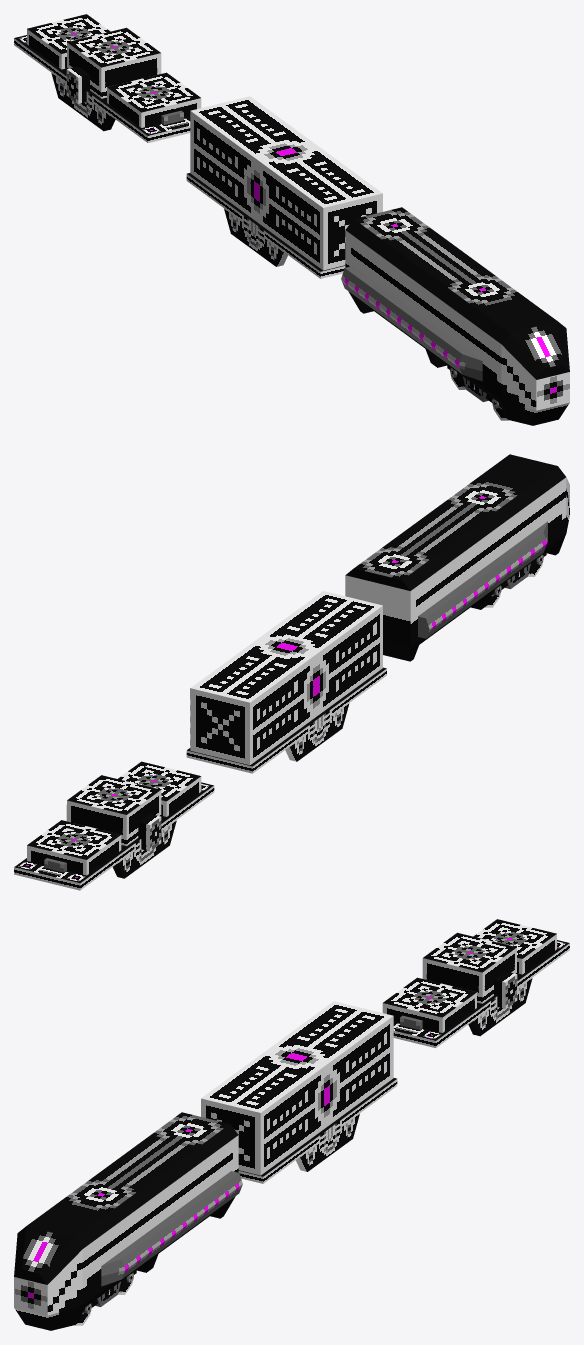
The model's file is Trains.fbx.
3 renders of one model, top to bottom at view 1: azimuth 30°, elevation 25°; view 2: azimuth 150°, elevation 25°; view 3: azimuth 330°, elevation 25°, orthographic.
Visible parts, largest first — view 1: RootCar, FreightCar, AttackerCar, TrainWheel; view 2: RootCar, FreightCar, AttackerCar, TrainWheel; view 3: RootCar, FreightCar, AttackerCar, TrainWheel.
Part boxes in pixels (box(x1,y1,x2,y2)): RootCar: box(341, 207, 569, 425); FreightCar: box(186, 96, 382, 278); AttackerCar: box(14, 14, 201, 142); TrainWheel: box(447, 365, 508, 420); RootCar: box(345, 454, 569, 661); FreightCar: box(186, 591, 386, 773); AttackerCar: box(14, 761, 214, 890); TrainWheel: box(485, 552, 546, 607); RootCar: box(14, 1112, 242, 1330); FreightCar: box(201, 1001, 397, 1183); AttackerCar: box(382, 919, 569, 1047); TrainWheel: box(75, 1270, 136, 1325).
Bounding box in the file's own units: 593 × 646 × 5865.
